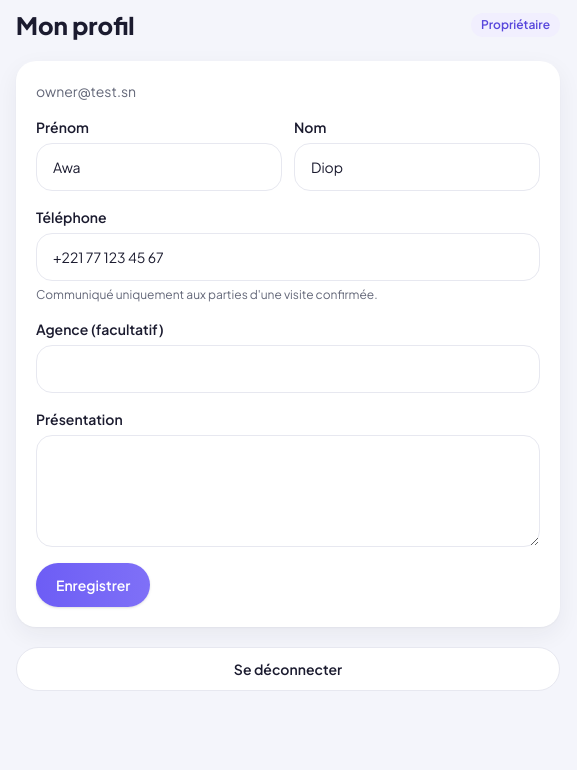
Connexion et compte › met à jour le profil et liste les notifications
This screenshot has width=577, height=770.
Replace the text in the field labelled "Prénom" with "Moussa" at {"x": 159, "y": 167}, box left=36, top=143, right=282, bottom=191
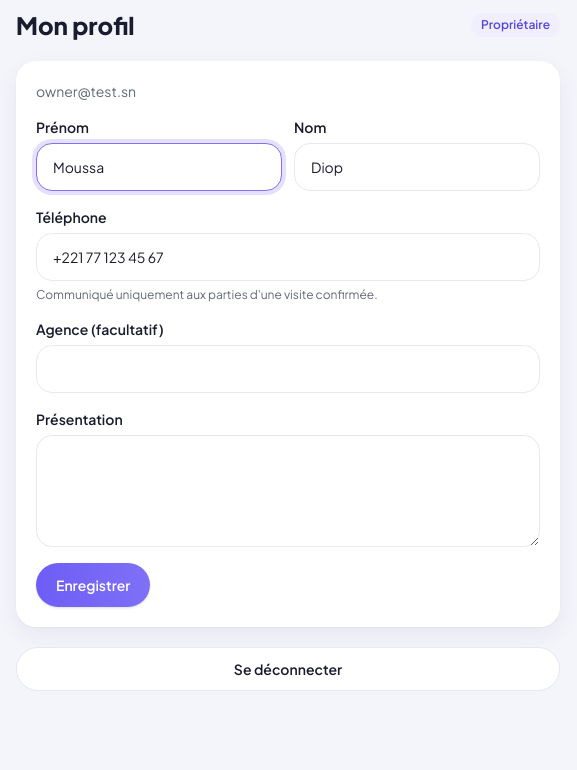
Click the button "Enregistrer" at {"x": 93, "y": 585}, box left=36, top=563, right=150, bottom=607
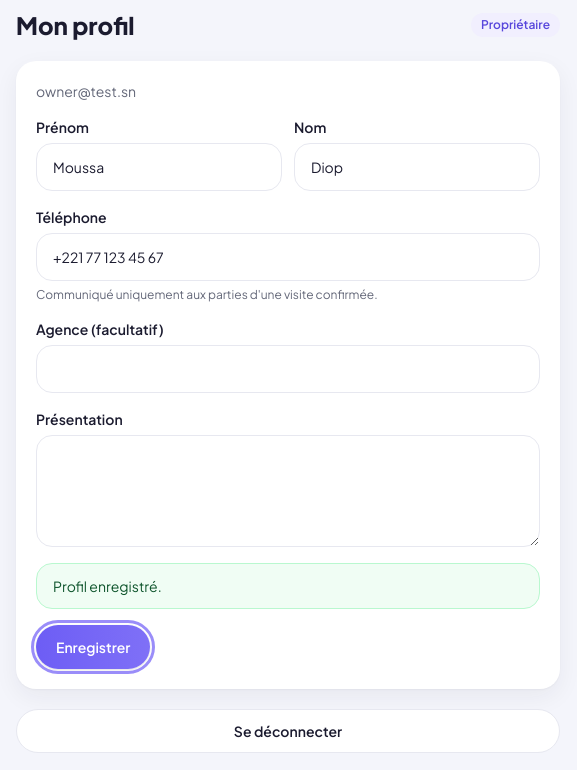
Expected: the text "Profil enregistré." is shown, left=53, top=576, right=162, bottom=596
